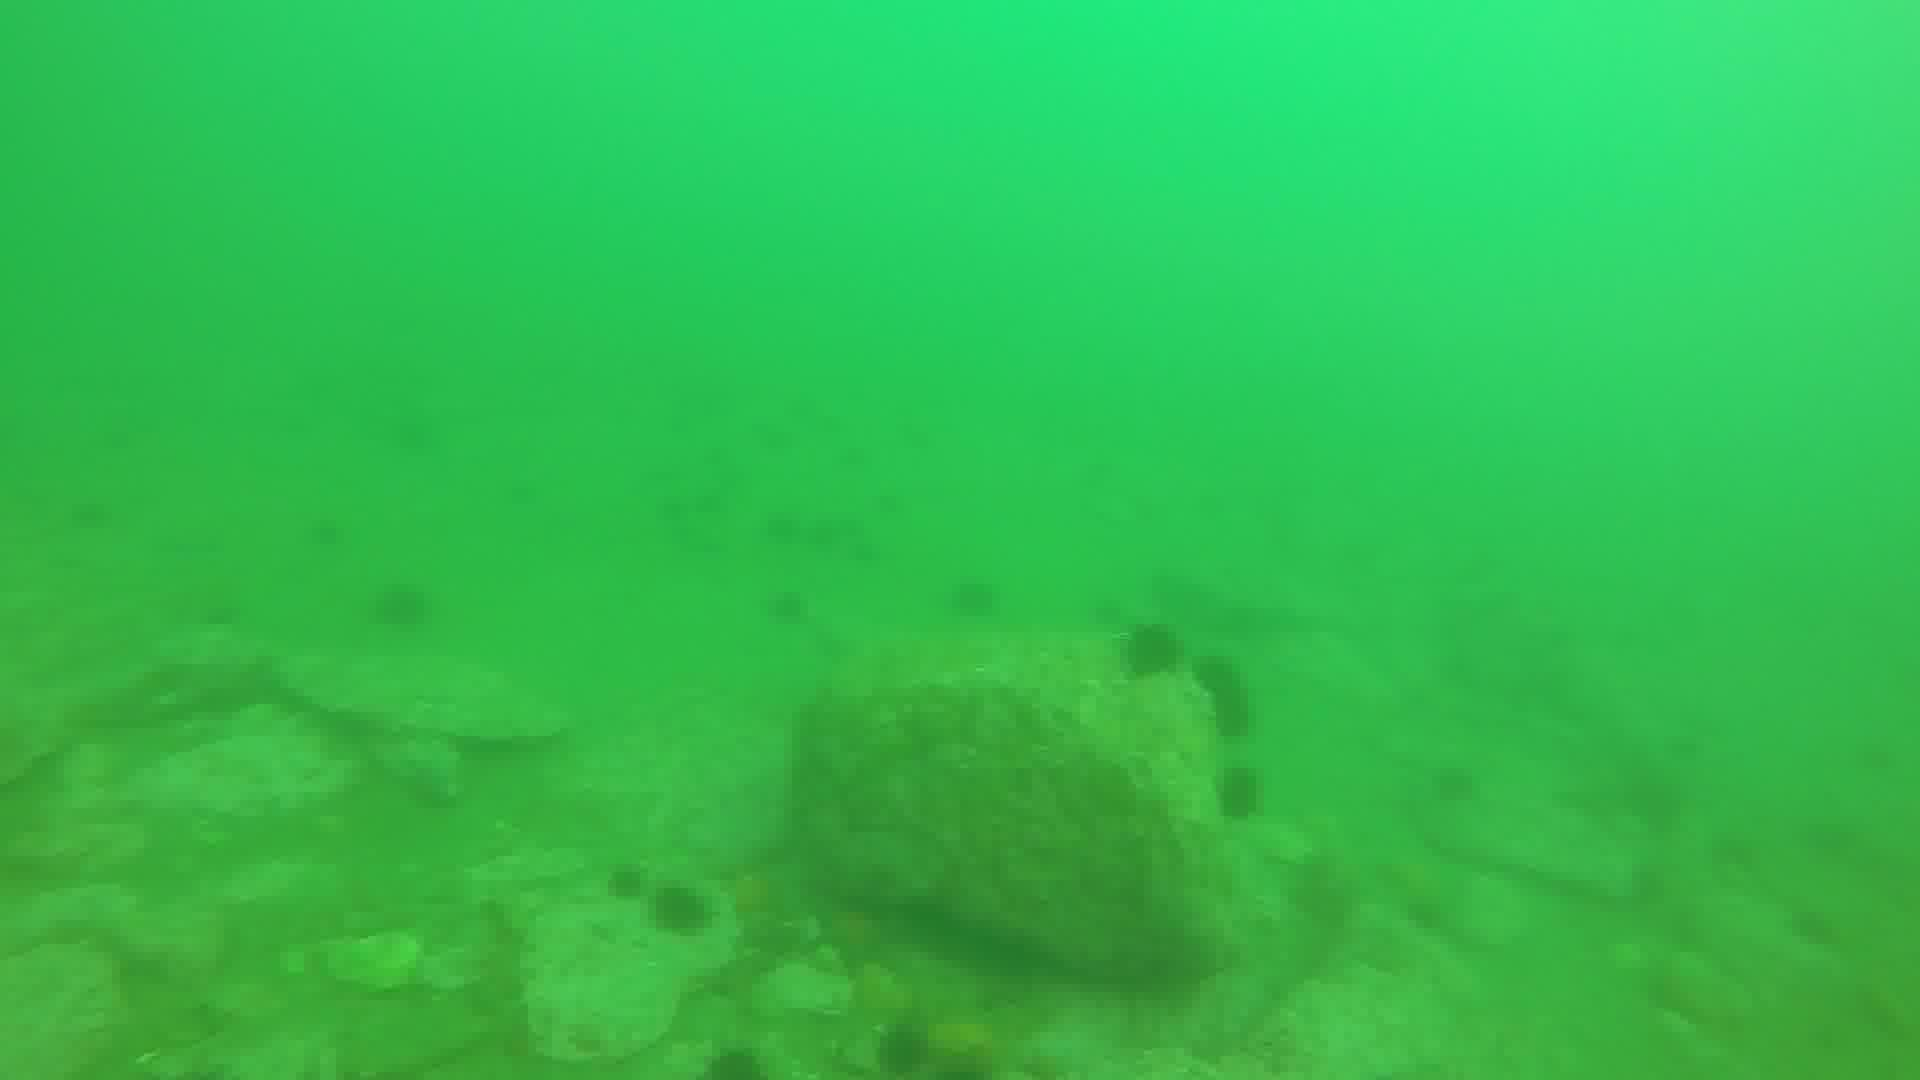echinus: (646, 882, 713, 939), (1122, 621, 1179, 678), (1211, 766, 1266, 823), (880, 1025, 928, 1080), (365, 585, 430, 626), (1187, 651, 1242, 696), (702, 1050, 777, 1080), (1211, 684, 1254, 735), (949, 582, 1002, 620), (935, 1052, 1000, 1080), (604, 866, 655, 901), (767, 589, 812, 628)
starfish: (811, 897, 895, 977), (713, 866, 783, 923)
